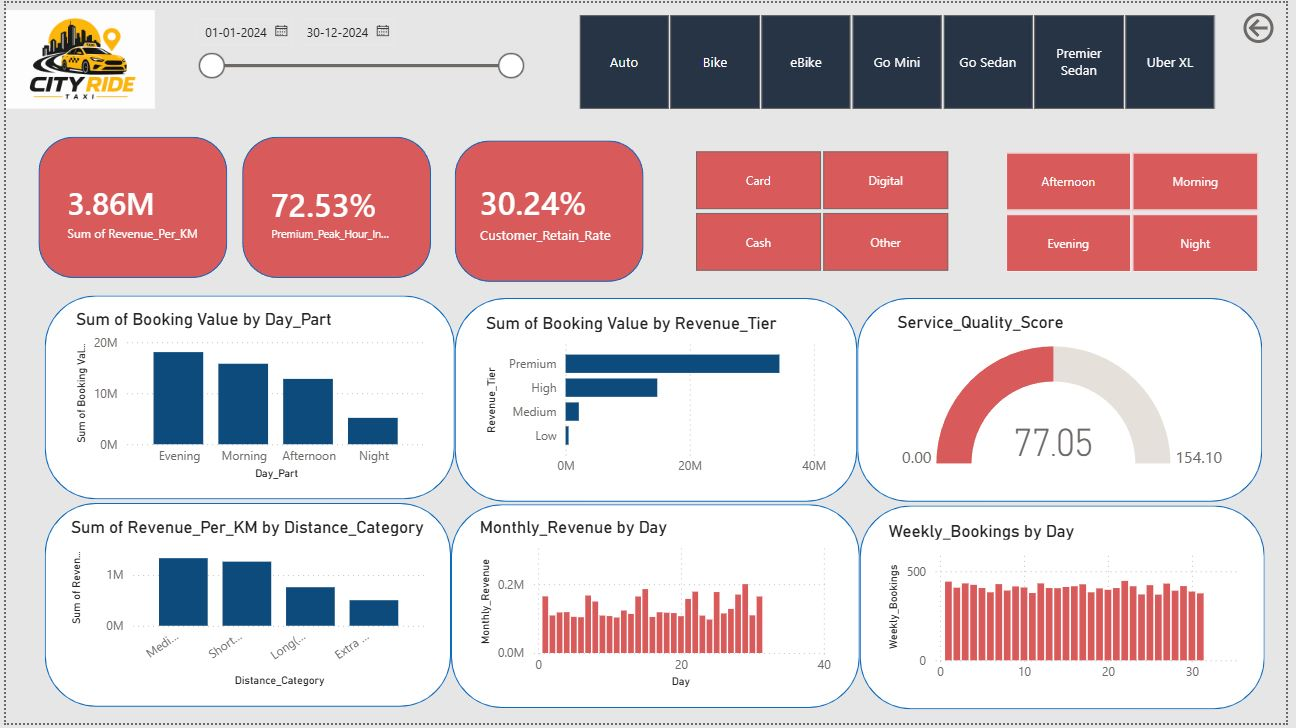

What the dashboard file says about the page in this screenshot:
{"tool":"powerbi","page":{"name":"Summary","canvas":[1280,720],"ordinal":6},"visuals":[{"type":"shape","box":[854.3,502.5,405,203.8],"z":0},{"type":"shape","box":[851.2,295,405,203.8],"z":1000},{"type":"shape","box":[445.5,501,408.8,203.8],"z":2000},{"type":"shape","box":[448.8,295,402.5,203.8],"z":3000},{"type":"shape","box":[38.8,500,406.2,203.8],"z":4000},{"type":"shape","box":[38.8,292.5,410,203.8],"z":5000},{"type":"shape","box":[448.8,137.5,188.8,141.2],"z":6000},{"type":"shape","box":[236.2,133.8,188.8,141.2],"z":7000},{"type":"shape","box":[32.5,133.8,188.8,141.2],"z":8000},{"type":"gauge","fields":{"Y":["rideBookings.Service_Quality_Score"]},"box":[886.5,309.3,340,172.5],"z":9000},{"type":"cardVisual","fields":{"Data":["rideBookings.Customer_Retain_Rate"]},"box":[445,155,192.5,107.5],"z":10000},{"type":"cardVisual","fields":{"Data":["Sum(rideBookings.Revenue_Per_KM)"]},"box":[32.5,155,192.5,107.5],"z":11000},{"type":"cardVisual","fields":{"Data":["rideBookings.Premium_Peak_Hour_Index"]},"box":[236.2,155,176.2,107.5],"z":12000},{"type":"clusteredColumnChart","fields":{"Category":["rideBookings.Day_Part"],"Y":["Sum(rideBookings.Booking Value)"]},"box":[65,306.2,360,175],"z":13000},{"type":"clusteredBarChart","fields":{"Category":["rideBookings.Revenue_Tier"],"Y":["Sum(rideBookings.Booking Value)"]},"box":[475,310,350,171.2],"z":14000},{"type":"clusteredColumnChart","fields":{"Y":["Sum(rideBookings.Revenue_Per_KM)"],"Category":["rideBookings.Distance_Category"]},"box":[60,513.8,365,175],"z":15000},{"type":"lineStackedColumnComboChart","fields":{"Y":["rideBookings.Monthly_Revenue"],"Category":["rideBookings.Date.Variation.Date Hierarchy.Day"]},"box":[469.2,513.8,362,176.2],"z":16000},{"type":"lineClusteredColumnComboChart","fields":{"Y":["rideBookings.Weekly_Bookings"],"Category":["rideBookings.Date.Variation.Date Hierarchy.Day"]},"box":[877,517.5,362.5,170],"z":17000},{"type":"slicer","fields":{"Values":["rideBookings.Date"]},"box":[177.5,5,348.8,107.5],"z":18000},{"type":"slicer","fields":{"Values":["rideBookings.Vehicle Type"]},"box":[547.5,5,685,107.5],"z":19000},{"type":"slicer","fields":{"Values":["rideBookings.Payment_Caegory"]},"box":[663.8,141.2,302.5,133.8],"z":20000},{"type":"slicer","fields":{"Values":["rideBookings.Day_Part"]},"box":[973.8,142.5,302,133],"z":21000},{"type":"image","box":[0,0,148.6,112.9],"z":22000},{"type":"actionButton","box":[1232.5,5,47.5,40],"z":23000}]}

Visuals, with their boxes in screenshot pixels (x1, y1, x2, y2), scaled from the page's 1280x720 canvas onto the 1296x728 screenshot:
shape: <bbox>865, 508, 1275, 714</bbox>
shape: <bbox>862, 298, 1272, 504</bbox>
shape: <bbox>451, 507, 865, 713</bbox>
shape: <bbox>454, 298, 862, 504</bbox>
shape: <bbox>39, 506, 451, 712</bbox>
shape: <bbox>39, 296, 454, 502</bbox>
shape: <bbox>454, 139, 646, 282</bbox>
shape: <bbox>239, 135, 430, 278</bbox>
shape: <bbox>33, 135, 224, 278</bbox>
gauge - rideBookings.Service_Quality_Score: <bbox>898, 313, 1242, 487</bbox>
cardVisual - rideBookings.Customer_Retain_Rate: <bbox>451, 157, 645, 265</bbox>
cardVisual - Sum(rideBookings.Revenue_Per_KM): <bbox>33, 157, 228, 265</bbox>
cardVisual - rideBookings.Premium_Peak_Hour_Index: <bbox>239, 157, 418, 265</bbox>
clusteredColumnChart - rideBookings.Day_Part x Sum(rideBookings.Booking Value): <bbox>66, 310, 430, 487</bbox>
clusteredBarChart - rideBookings.Revenue_Tier x Sum(rideBookings.Booking Value): <bbox>481, 313, 835, 487</bbox>
clusteredColumnChart - Sum(rideBookings.Revenue_Per_KM) x rideBookings.Distance_Category: <bbox>61, 520, 430, 696</bbox>
lineStackedColumnComboChart - rideBookings.Monthly_Revenue x rideBookings.Date.Variation.Date Hierarchy.Day: <bbox>475, 520, 842, 698</bbox>
lineClusteredColumnComboChart - rideBookings.Weekly_Bookings x rideBookings.Date.Variation.Date Hierarchy.Day: <bbox>888, 523, 1255, 695</bbox>
slicer - rideBookings.Date: <bbox>180, 5, 533, 114</bbox>
slicer - rideBookings.Vehicle Type: <bbox>554, 5, 1248, 114</bbox>
slicer - rideBookings.Payment_Caegory: <bbox>672, 143, 978, 278</bbox>
slicer - rideBookings.Day_Part: <bbox>986, 144, 1292, 279</bbox>
image: <bbox>0, 0, 150, 114</bbox>
actionButton: <bbox>1248, 5, 1295, 46</bbox>
